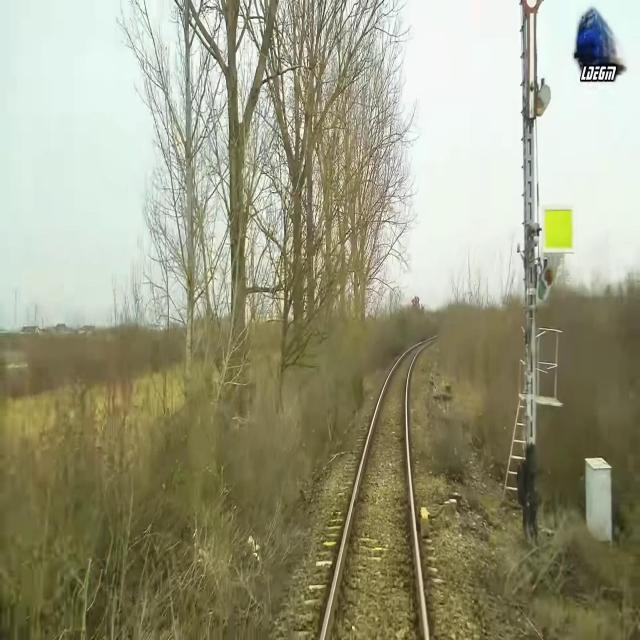rail-track: (324, 346, 424, 639)
